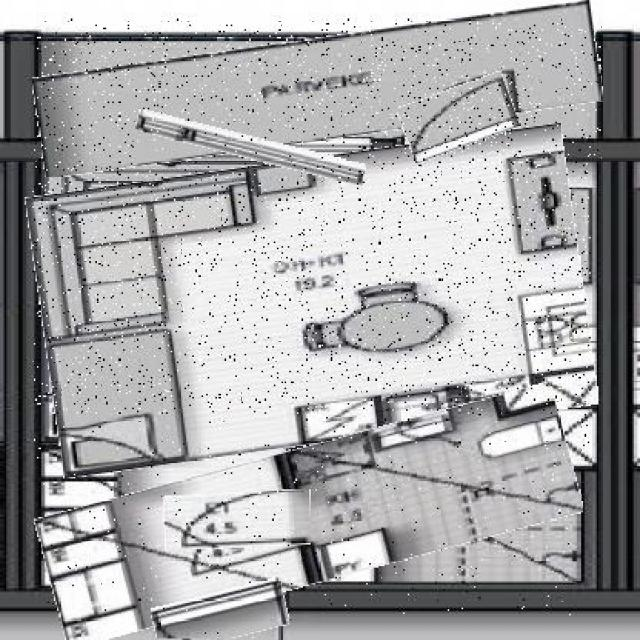door: (400, 80, 517, 155), (164, 490, 310, 548), (152, 584, 287, 640)
window: (136, 124, 367, 174)
zone: (32, 142, 591, 462), (39, 414, 578, 615), (34, 18, 601, 158)
